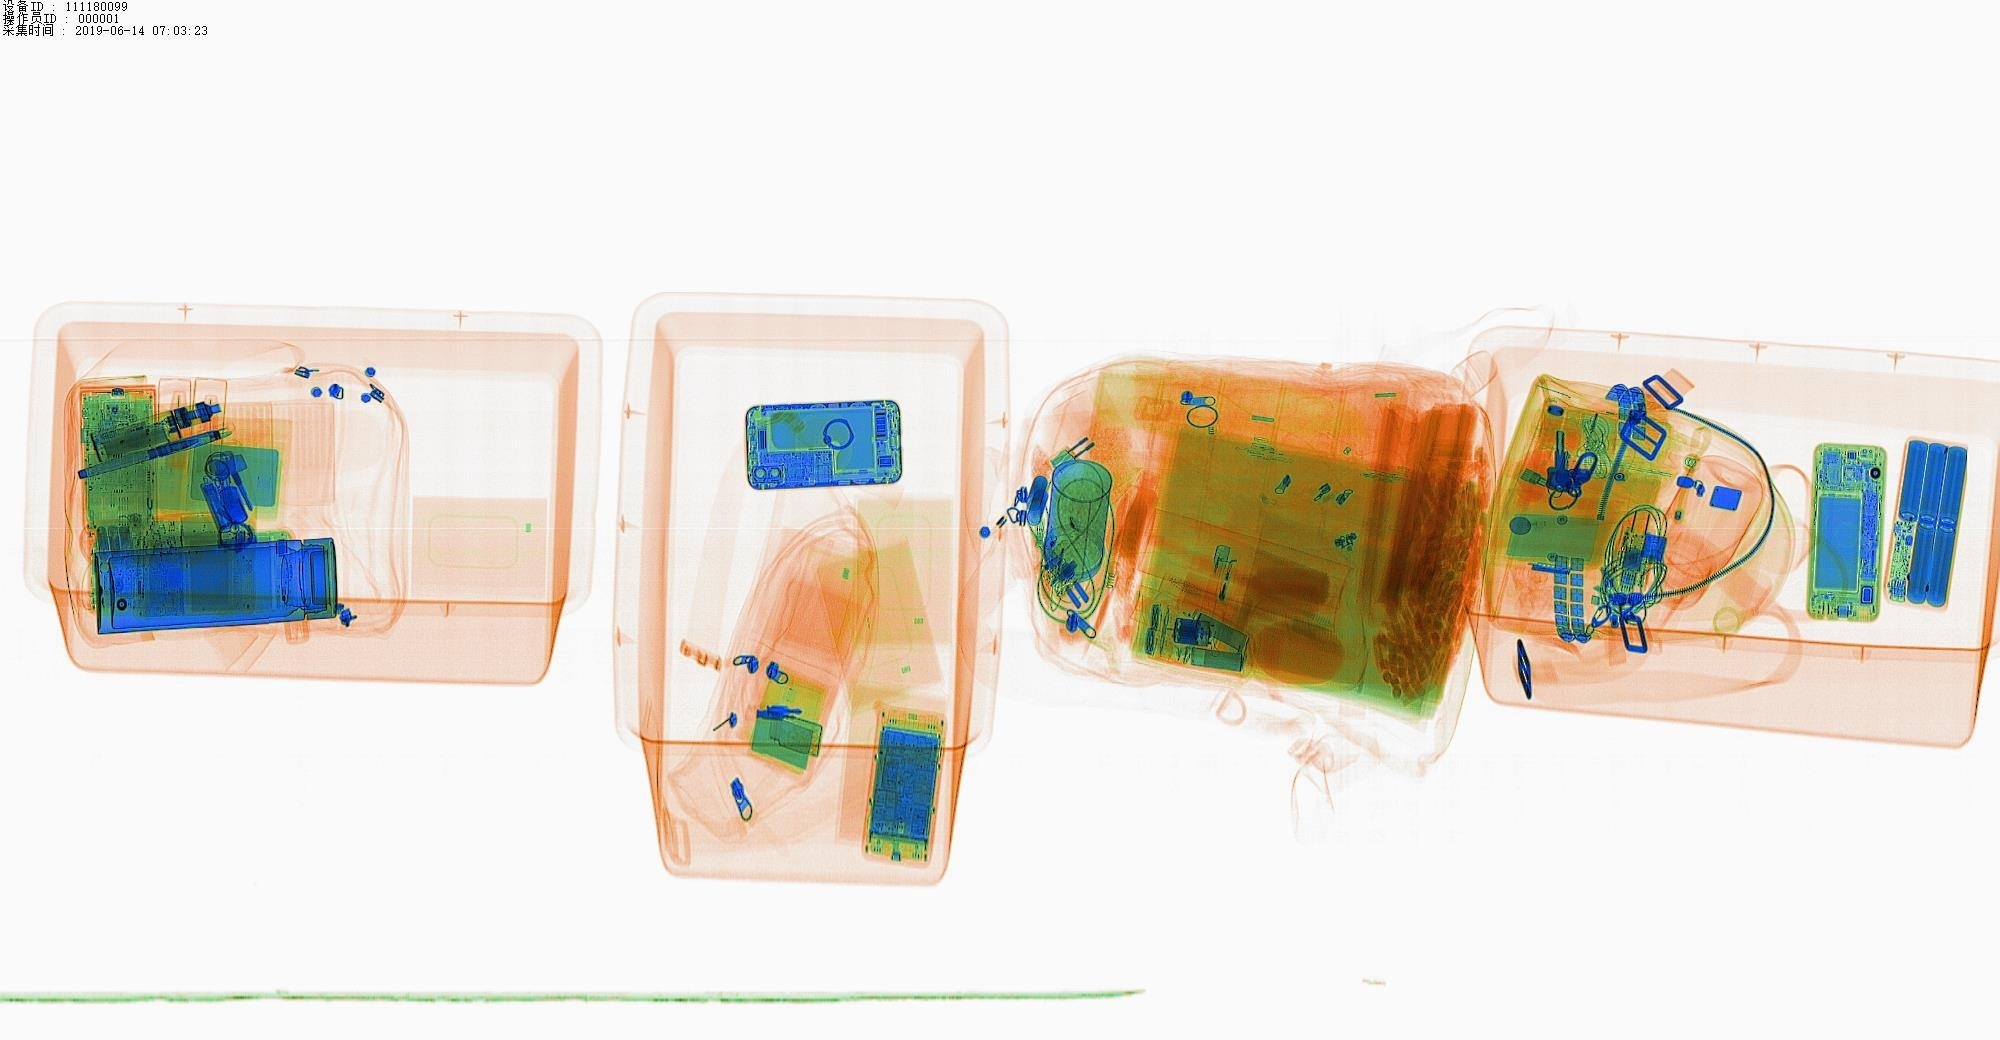NonmetallicFire: (1190, 528, 1254, 659)
